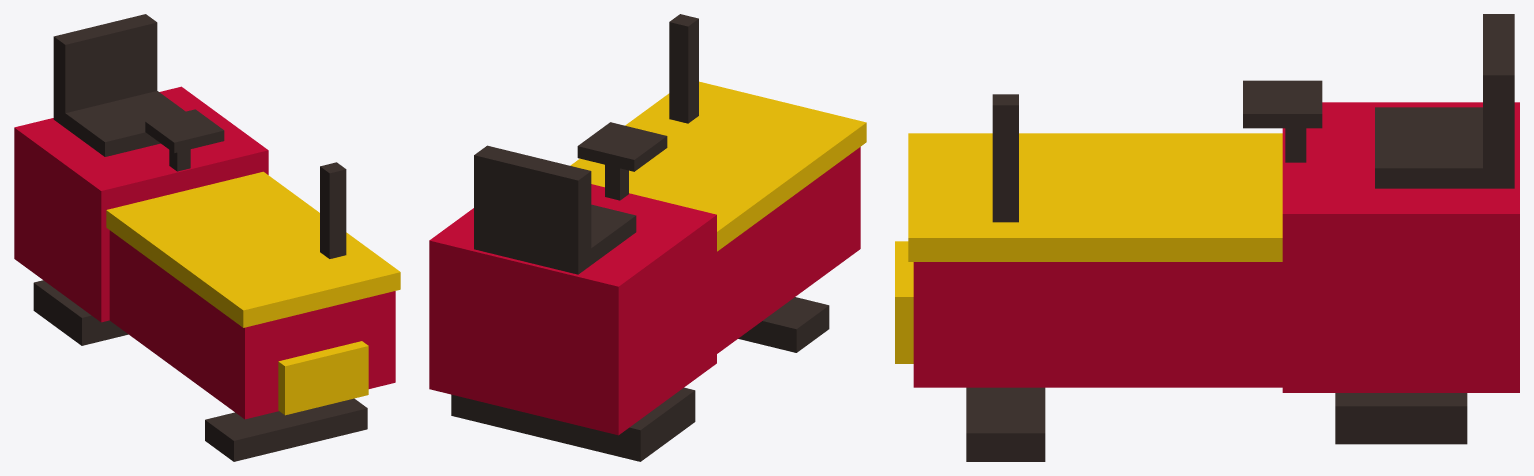
File: tractor.glb
3 views of the same model, side by side, from view 1: azimuth 30°, elevation 25°; view 2: azimuth 150°, elevation 25°; view 3: azimuth 270°, elevation 25° (orthographic). The views are drawn at different scales.
Size of the model in its own units: 1 by 1.56 by 2.37.
